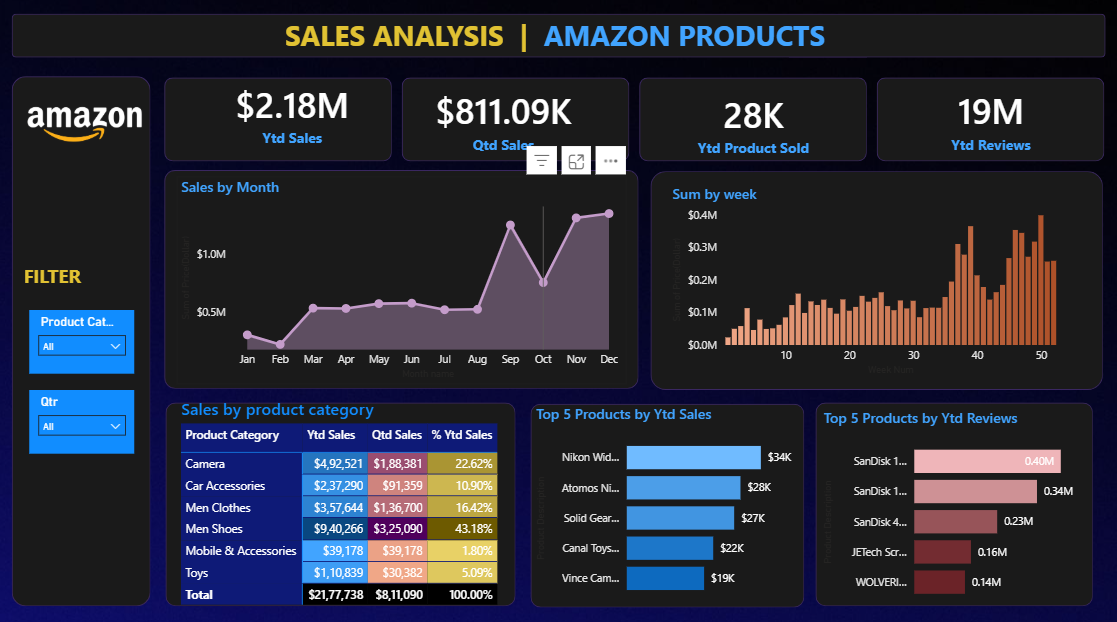

The page's visual inventory and layout, read from the dashboard file:
{"tool":"powerbi","page":{"name":"Page 1","canvas":[1280,720],"ordinal":0},"visuals":[{"type":"shape","box":[15,16.2,1250,50],"z":0},{"type":"textbox","box":[322.9,12.9,634.3,52.9],"z":1000},{"type":"shape","box":[15.7,87.1,158.6,605.7],"z":2000},{"type":"shape","box":[189.7,88.3,260,95.7],"z":3000},{"type":"card","fields":{"Values":["Amazon_Data.Ytd Sales"]},"box":[220,75.7,232.9,107.1],"z":4000},{"type":"shape","box":[461.1,88.3,260,95.7],"z":5000},{"type":"shape","box":[732.6,88.3,260,95.7],"z":6000},{"type":"shape","box":[1004,88.3,260,95.7],"z":7000},{"type":"card","fields":{"Values":["Amazon_Data.Qtd Sales"]},"box":[461.4,82.9,232.9,107.1],"z":8000},{"type":"card","fields":{"Values":["Amazon_Data.Ytd Product Sold"]},"box":[747.1,87.1,232.9,107.1],"z":9000},{"type":"card","fields":{"Values":["Amazon_Data.Ytd Reviews"]},"box":[1018.6,82.9,232.9,107.1],"z":10000},{"type":"shape","box":[190,194.3,542,250],"z":11000},{"type":"areaChart","title":"Sales by Month","fields":{"Category":["Calender Table.Month name"],"Y":["Sum(Amazon_Data.Price(Dollar))"]},"box":[204.3,201.4,514.3,237.1],"z":12000},{"type":"shape","box":[745.7,195.7,517.1,250],"z":13000},{"type":"columnChart","title":"Sum by week","fields":{"Category":["Calender Table.Week Num"],"Y":["Sum(Amazon_Data.Price(Dollar))"]},"box":[765.7,210,452.9,224.3],"z":14000},{"type":"shape","box":[191.4,460,400,232.9],"z":15000},{"type":"pivotTable","title":"Sales by product category","fields":{"Rows":["Amazon_Data.Product Category"],"Values":["Amazon_Data.Ytd Sales1","Amazon_Data.Qtd Sales","Amazon_Data.Ytd Sales"]},"box":[204.3,454.3,404.3,244.3],"z":16000},{"type":"shape","box":[608.6,461.4,312.9,232.9],"z":16001},{"type":"shape","box":[934.3,460,317.1,232.9],"z":16002},{"type":"barChart","title":"Top 5 Products by Ytd Sales ","fields":{"Category":["Amazon_Data.Product Description"],"Y":["Amazon_Data.Ytd Sales"]},"box":[610,461.4,312.9,232.9],"z":16003},{"type":"barChart","title":"Top  5 Products by Ytd Reviews","fields":{"Category":["Amazon_Data.Product Description"],"Y":["Amazon_Data.Ytd Reviews"]},"box":[938.6,465.7,312.9,232.9],"z":16004},{"type":"slicer","fields":{"Values":["Amazon_Data.Product Category"]},"box":[35.7,354.3,120,72.9],"z":16005},{"type":"slicer","fields":{"Values":["Calender Table.Qtr"]},"box":[35.7,445.7,120,72.9],"z":16006},{"type":"image","box":[24.3,65.7,150,152.9],"z":16007},{"type":"textbox","box":[24.3,295.7,90,42.9],"z":16008}]}

Visuals, with their boxes in screenshot pixels (x1, y1, x2, y2), scaled from the page's 1280x720 canvas onto the 1117x622 screenshot:
shape: x1=13 y1=14 x2=1104 y2=57
textbox: x1=282 y1=11 x2=835 y2=57
shape: x1=14 y1=75 x2=152 y2=599
shape: x1=166 y1=76 x2=392 y2=159
card - Amazon_Data.Ytd Sales: x1=192 y1=65 x2=395 y2=158
shape: x1=402 y1=76 x2=629 y2=159
shape: x1=639 y1=76 x2=866 y2=159
shape: x1=876 y1=76 x2=1103 y2=159
card - Amazon_Data.Qtd Sales: x1=403 y1=72 x2=606 y2=164
card - Amazon_Data.Ytd Product Sold: x1=652 y1=75 x2=855 y2=168
card - Amazon_Data.Ytd Reviews: x1=889 y1=72 x2=1092 y2=164
shape: x1=166 y1=168 x2=639 y2=384
"Sales by Month" areaChart: x1=178 y1=174 x2=627 y2=379
shape: x1=651 y1=169 x2=1102 y2=385
"Sum by week" columnChart: x1=668 y1=181 x2=1063 y2=375
shape: x1=167 y1=397 x2=516 y2=599
"Sales by product category" pivotTable: x1=178 y1=392 x2=531 y2=604
shape: x1=531 y1=399 x2=804 y2=600
shape: x1=815 y1=397 x2=1092 y2=599
"Top 5 Products by Ytd Sales " barChart: x1=532 y1=399 x2=805 y2=600
"Top  5 Products by Ytd Reviews" barChart: x1=819 y1=402 x2=1092 y2=604
slicer - Amazon_Data.Product Category: x1=31 y1=306 x2=136 y2=369
slicer - Calender Table.Qtr: x1=31 y1=385 x2=136 y2=448
image: x1=21 y1=57 x2=152 y2=189
textbox: x1=21 y1=255 x2=100 y2=293
